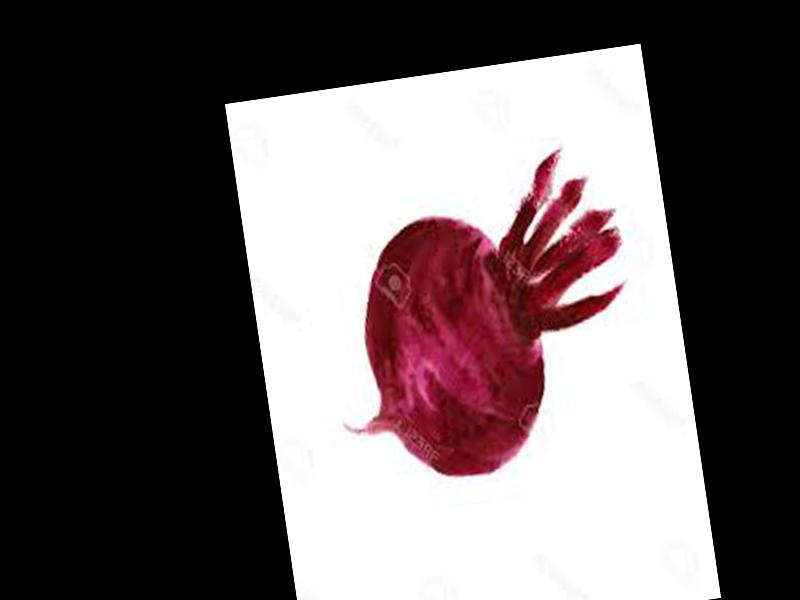Beet: (307, 143, 651, 495)
